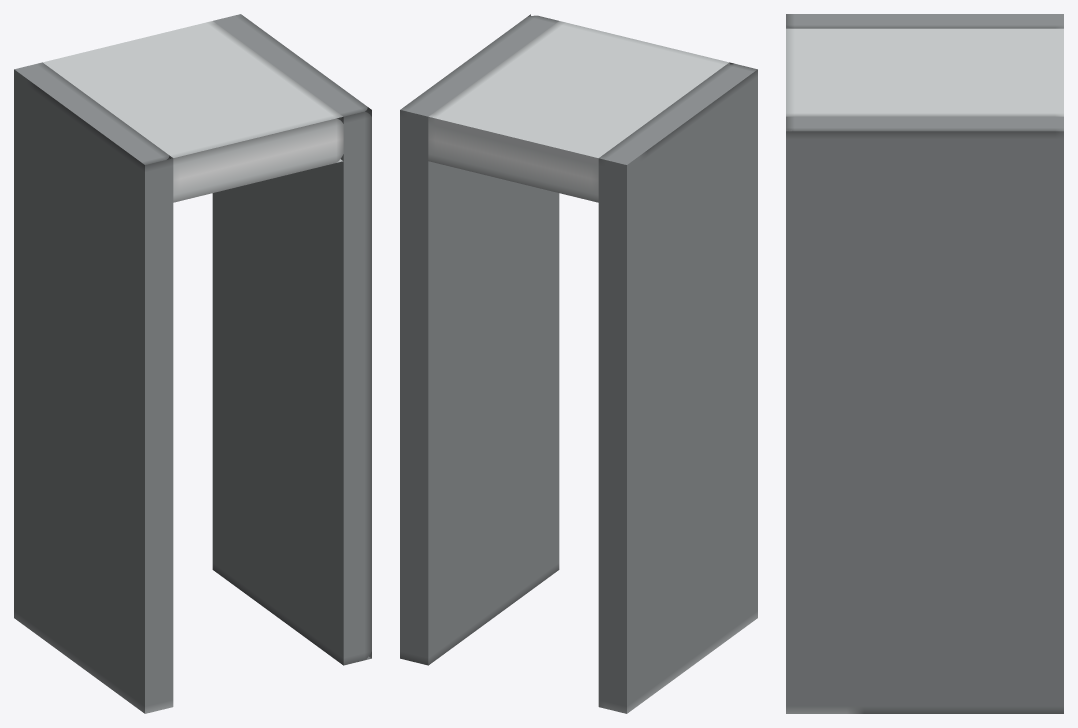
The model's file is SecurityDoor.fbx.
The picture shows the model from 3 angles, left to right: view 1: azimuth 30°, elevation 25°; view 2: azimuth 150°, elevation 25°; view 3: azimuth 270°, elevation 25°; orthographic projection. The views are drawn at different scales.
Visible parts, largest first — view 1: cube, cube_1, cube_2; view 2: cube, cube_1, cube_2; view 3: cube_1, cube_2, cube.
Boxes of the visible parts, bbox=[...] form: cube: bbox=[14, 62, 173, 713]; cube_1: bbox=[212, 14, 371, 665]; cube_2: bbox=[43, 21, 343, 202]; cube: bbox=[598, 62, 757, 713]; cube_1: bbox=[400, 14, 559, 665]; cube_2: bbox=[428, 21, 729, 202]; cube_1: bbox=[786, 116, 1063, 713]; cube_2: bbox=[786, 28, 1063, 131]; cube: bbox=[786, 14, 1063, 28].
Size of the model in its own units: 100 by 231 by 100.
1 material, 1 textured.
